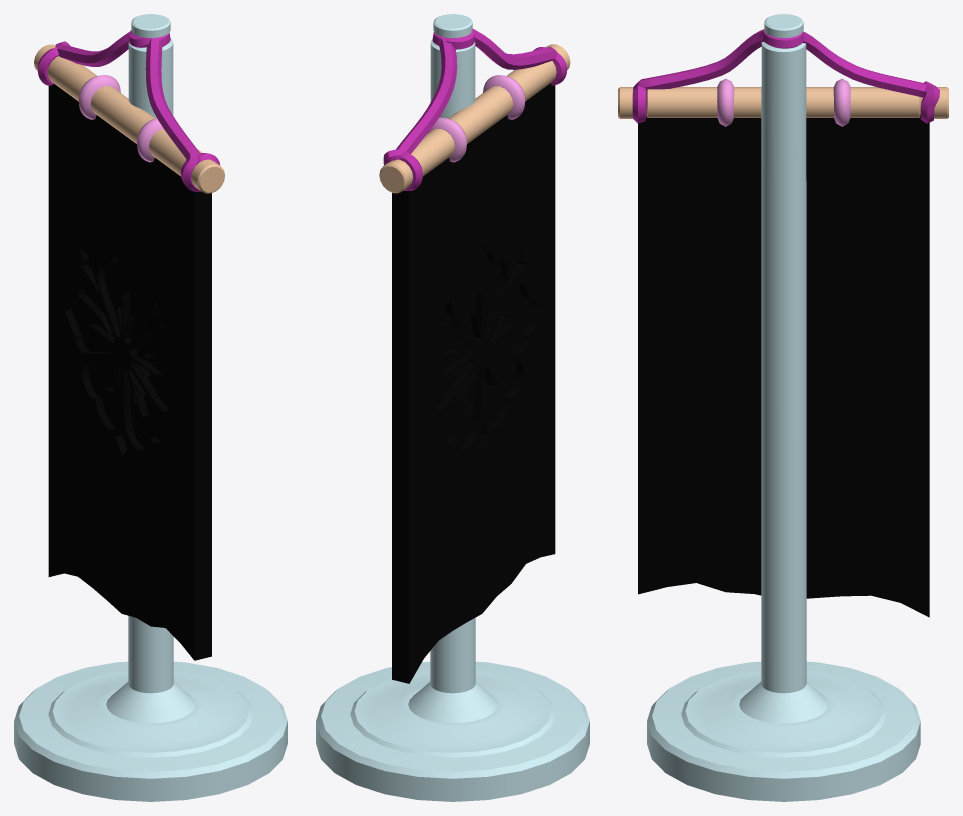
The model's file is flag.glb.
The picture shows the model from 3 angles, left to right: view 1: azimuth 30°, elevation 25°; view 2: azimuth 150°, elevation 25°; view 3: azimuth 270°, elevation 25°; orthographic projection.
Parts seen in each view (by area): view 1: Layer:layer 1, Cylinder002, Cylinder003, Circle003, Circle005, Circle004; view 2: Layer:layer 1, Cylinder002, Cylinder003, Circle003, Circle004, Circle005; view 3: Layer:layer 1, Cylinder002, Cylinder003, Circle003, Circle004, Circle005.
Part boxes in pixels (<box>): Layer:layer 1: <box>48,83,211,660</box>; Cylinder002: <box>14,14,287,801</box>; Cylinder003: <box>34,44,224,193</box>; Circle003: <box>37,30,220,191</box>; Circle005: <box>78,75,120,119</box>; Circle004: <box>136,118,163,162</box>; Layer:layer 1: <box>392,83,555,683</box>; Cylinder002: <box>316,14,589,801</box>; Cylinder003: <box>379,44,570,193</box>; Circle003: <box>383,29,567,190</box>; Circle004: <box>483,75,525,119</box>; Circle005: <box>428,117,466,162</box>; Layer:layer 1: <box>638,115,929,617</box>; Cylinder002: <box>647,14,920,801</box>; Cylinder003: <box>618,87,948,118</box>; Circle003: <box>632,29,939,123</box>; Circle004: <box>717,78,734,126</box>; Circle005: <box>833,78,850,126</box>.
Size of the model in its own units: 2.18 by 6.35 by 2.63.
